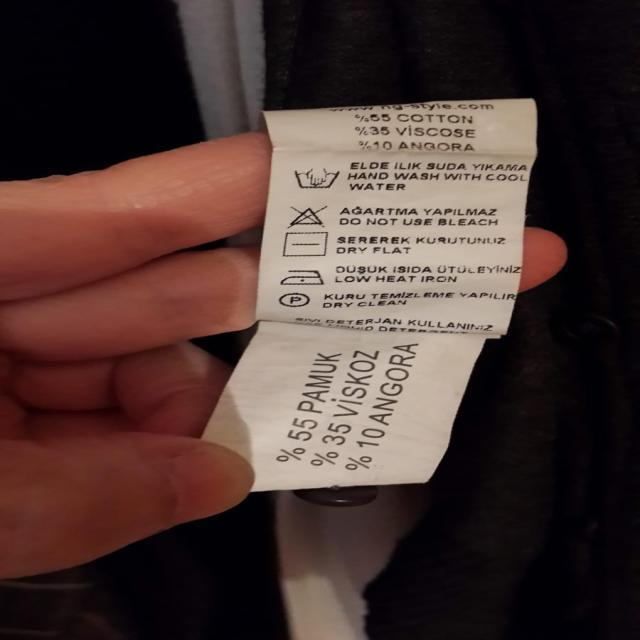DN_bleach: (286, 204, 332, 227)
dry_clean_any_solvent_except_trichloroethylene: (277, 290, 314, 309)
dry_flat: (281, 229, 333, 258)
hand_wash: (295, 162, 342, 192)
iron_low: (279, 265, 330, 289)
